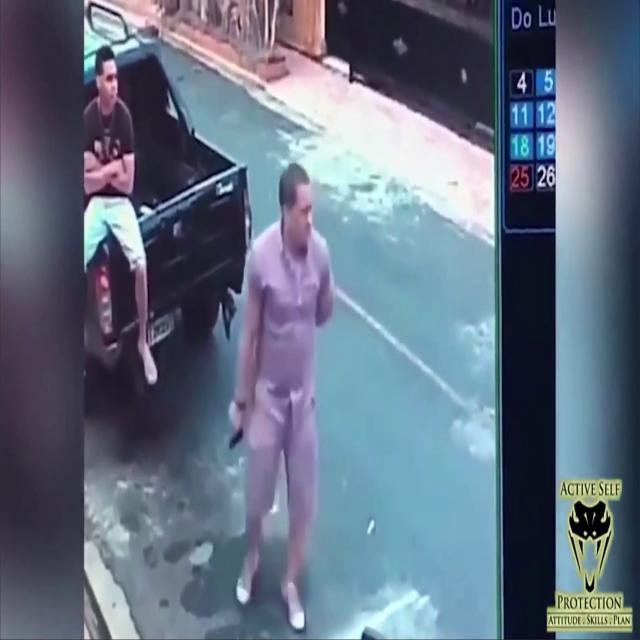Gun: (218, 397, 255, 456)
